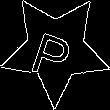P_N: (30, 20, 80, 79)
